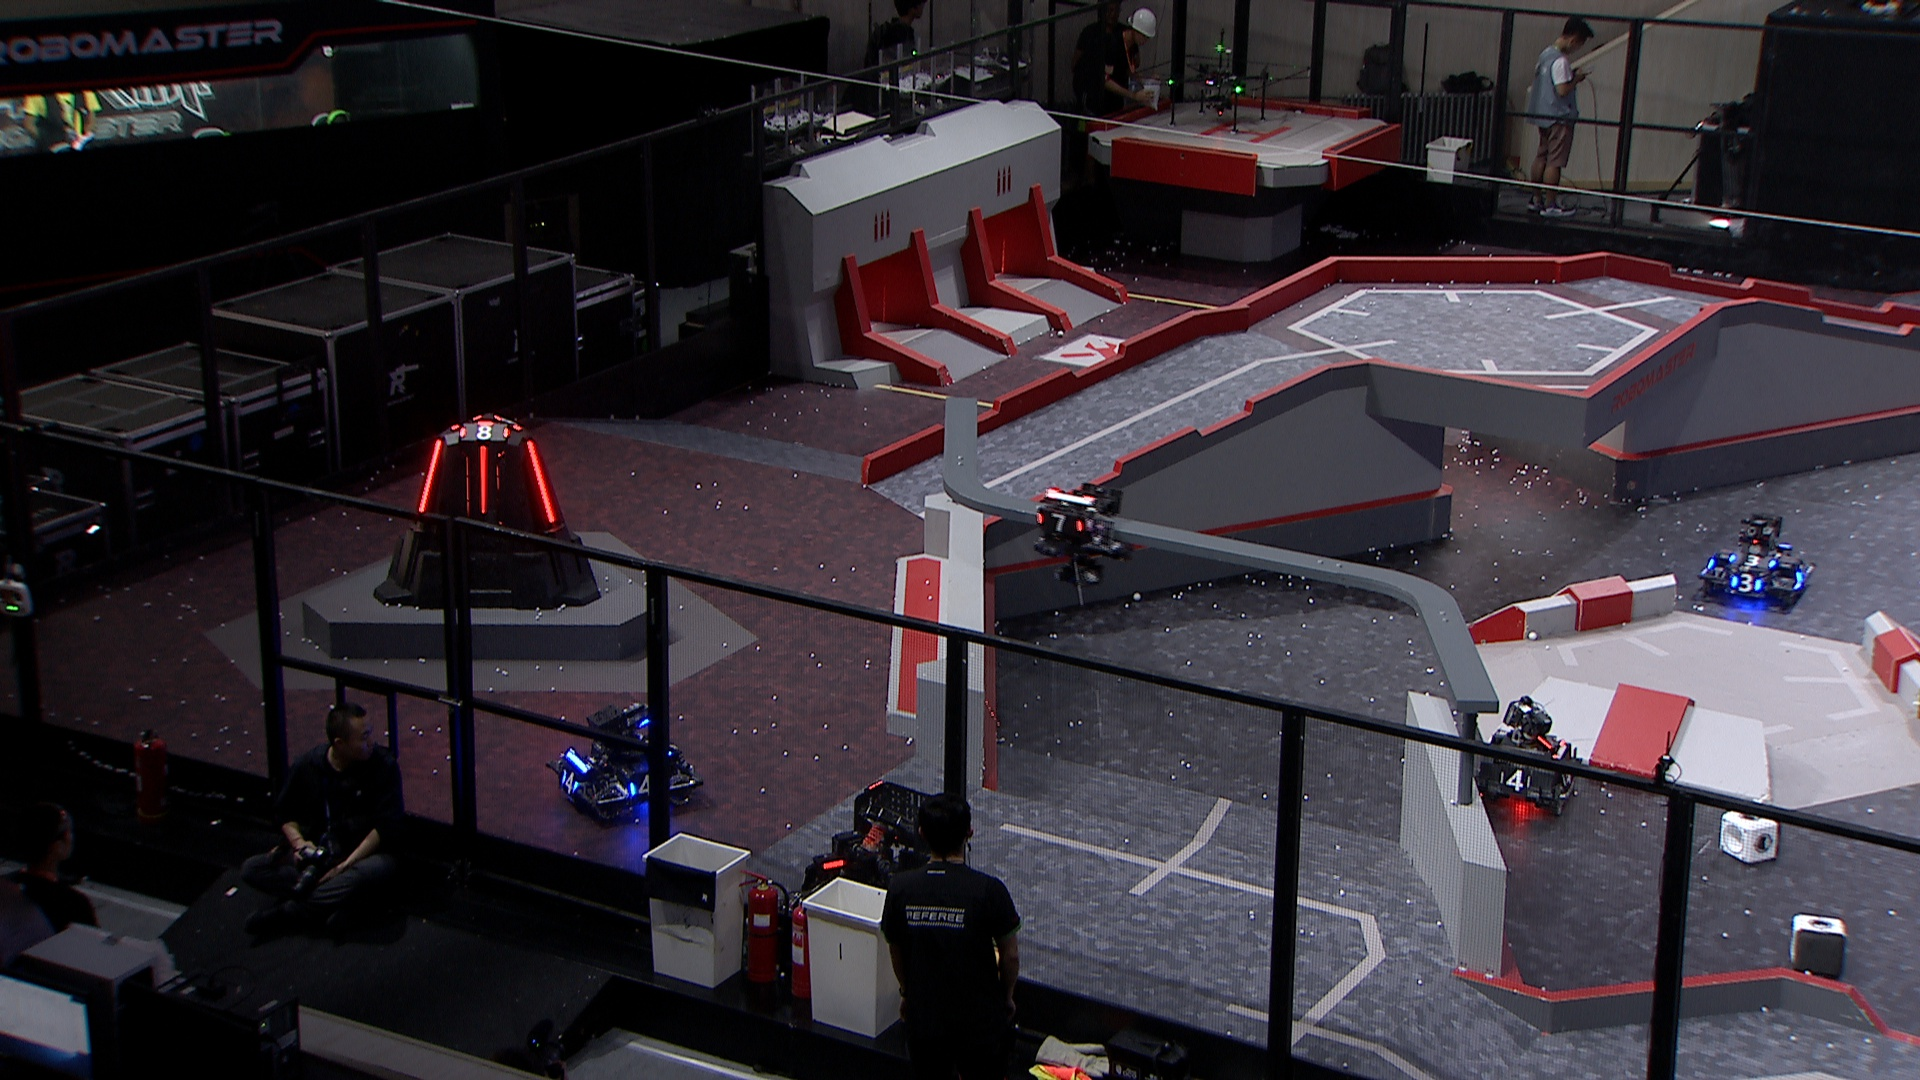armor: (524, 438, 556, 526), (418, 438, 443, 513), (458, 419, 513, 444), (1034, 510, 1087, 535), (1730, 551, 1779, 571), (477, 443, 491, 514), (1498, 770, 1532, 794), (1731, 574, 1764, 595), (560, 766, 582, 798), (628, 774, 651, 800)
base: (371, 413, 603, 613)
car: (787, 777, 975, 949), (543, 700, 700, 820), (1472, 700, 1582, 816), (1695, 513, 1816, 613)
watcher: (1033, 484, 1135, 588)
